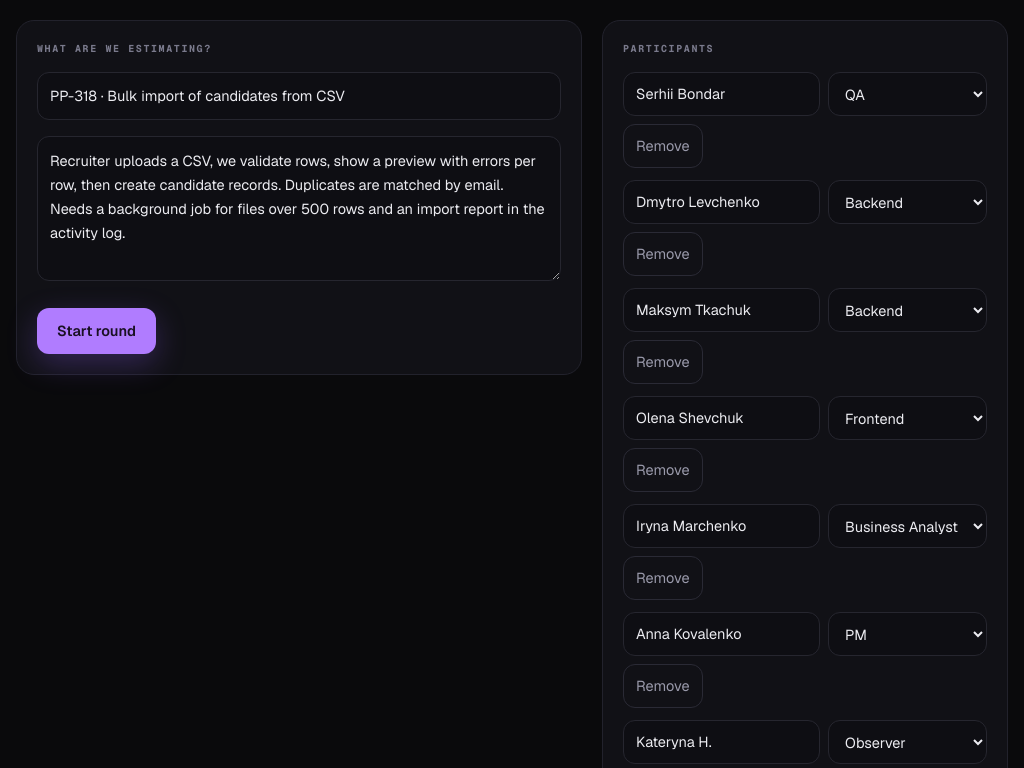
Test: starting hands the configured task to the round › carries a custom title and description into the round, trimmed
Replace the text in the field named "Task title" with "  Estimate the CSV import  ". click: (299, 96)
box: [37,72,561,120]
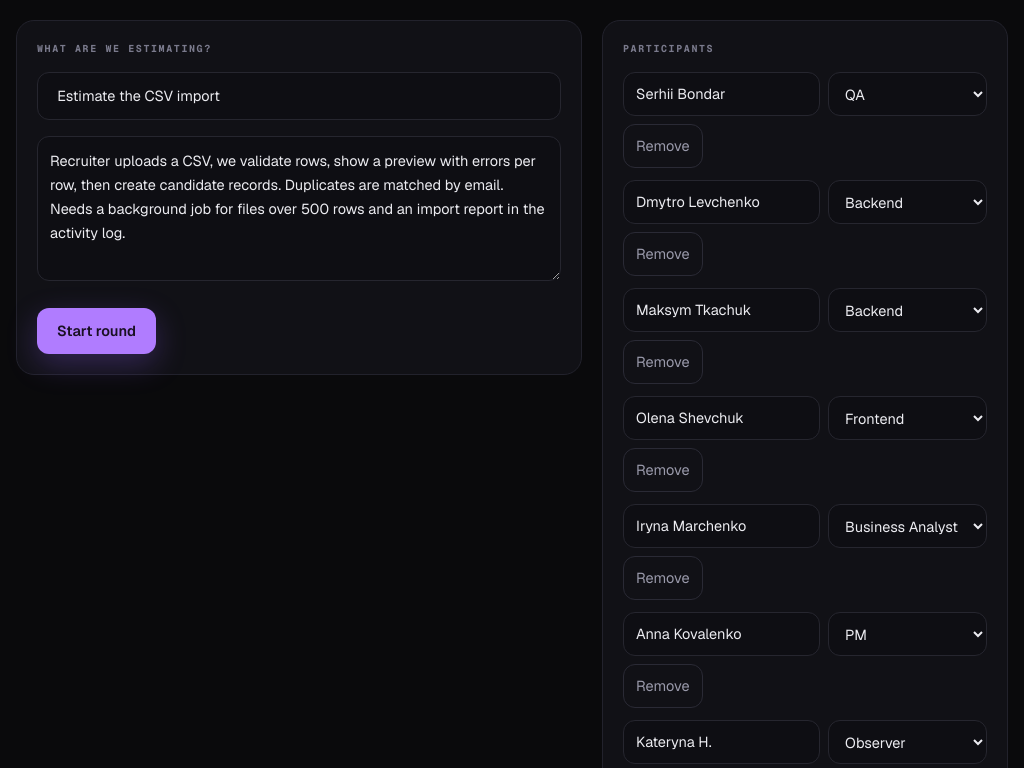
Replace the text in the text box named "Task description" with "  Rows are matched by email.  ". click: (299, 209)
box: [37,136,561,281]
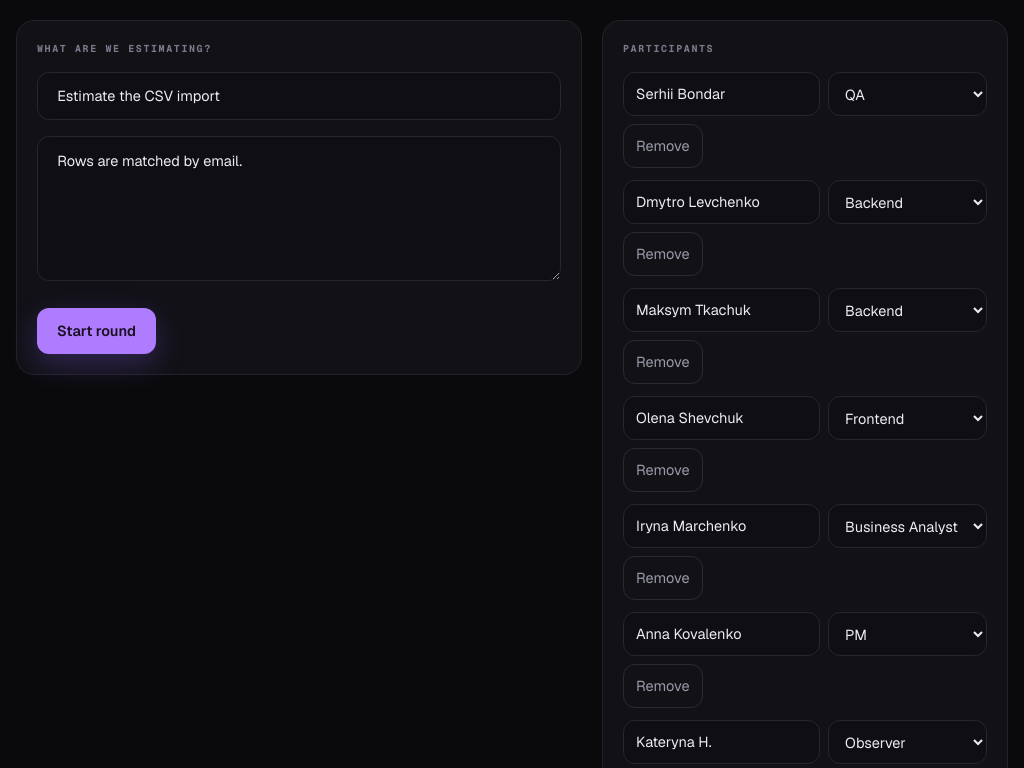
Click the button "Start round". click: (96, 331)
box: [37,308,156,354]
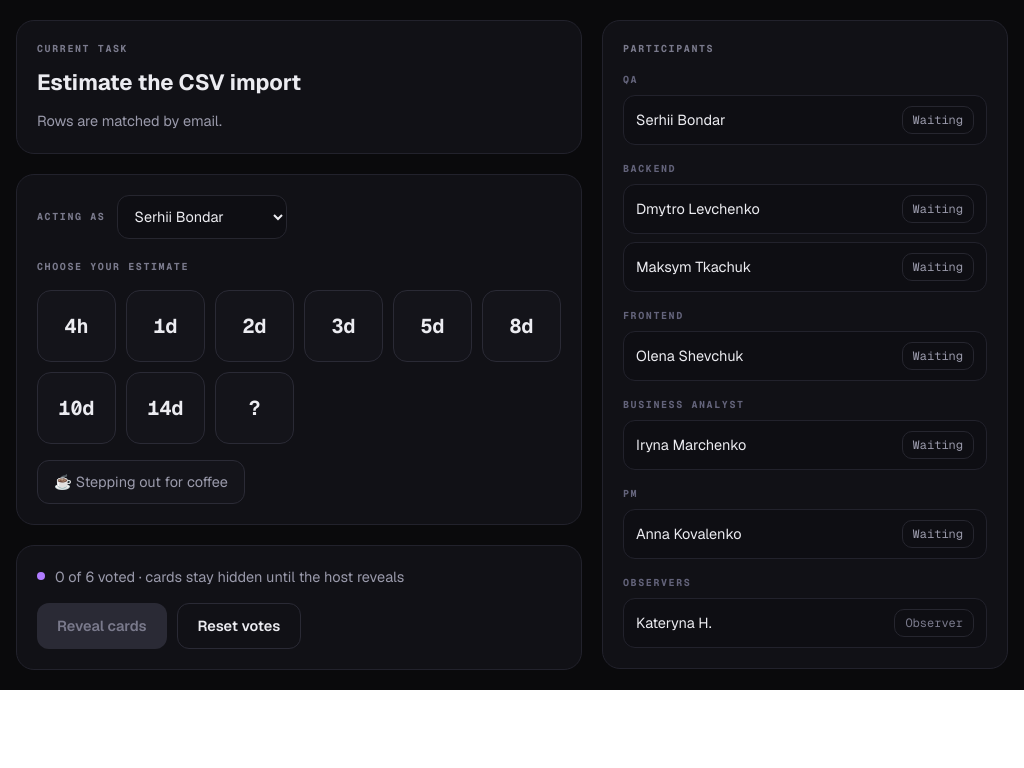
Expected: the text "Bulk import of candidates from CSV" is not shown
Result: the heading "Estimate the CSV import" is shown at [37,68,301,96]
Result: the text "Rows are matched by email." is shown at [37,111,222,130]
